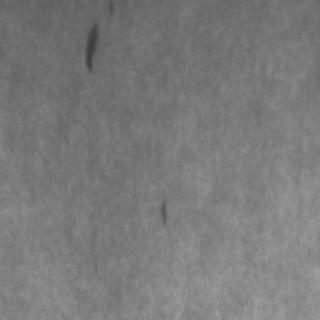inclusion: (79, 1, 117, 74), (152, 190, 174, 230)
